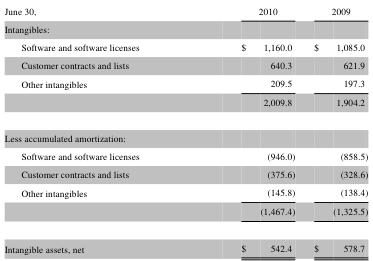table: (3, 3, 367, 254)
table column: (3, 3, 189, 254), (189, 3, 303, 254), (303, 3, 367, 254)
table column header: (3, 3, 367, 19)
table projected row header: (3, 119, 367, 146), (3, 19, 367, 37)
table row: (3, 92, 367, 119), (3, 119, 367, 146), (3, 201, 367, 228), (3, 228, 367, 254), (3, 73, 367, 92), (3, 182, 367, 201), (3, 19, 367, 37), (3, 37, 367, 55), (3, 55, 367, 73), (3, 146, 367, 164), (3, 164, 367, 182), (3, 3, 367, 19)
